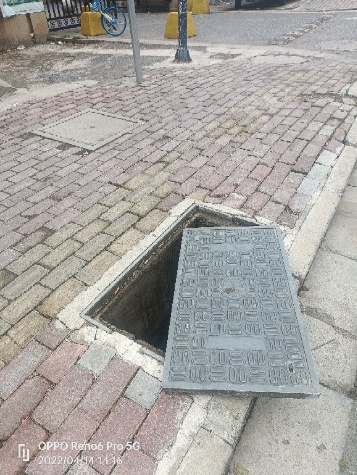good: (28, 108, 146, 152)
uncovered: (59, 194, 319, 400)
